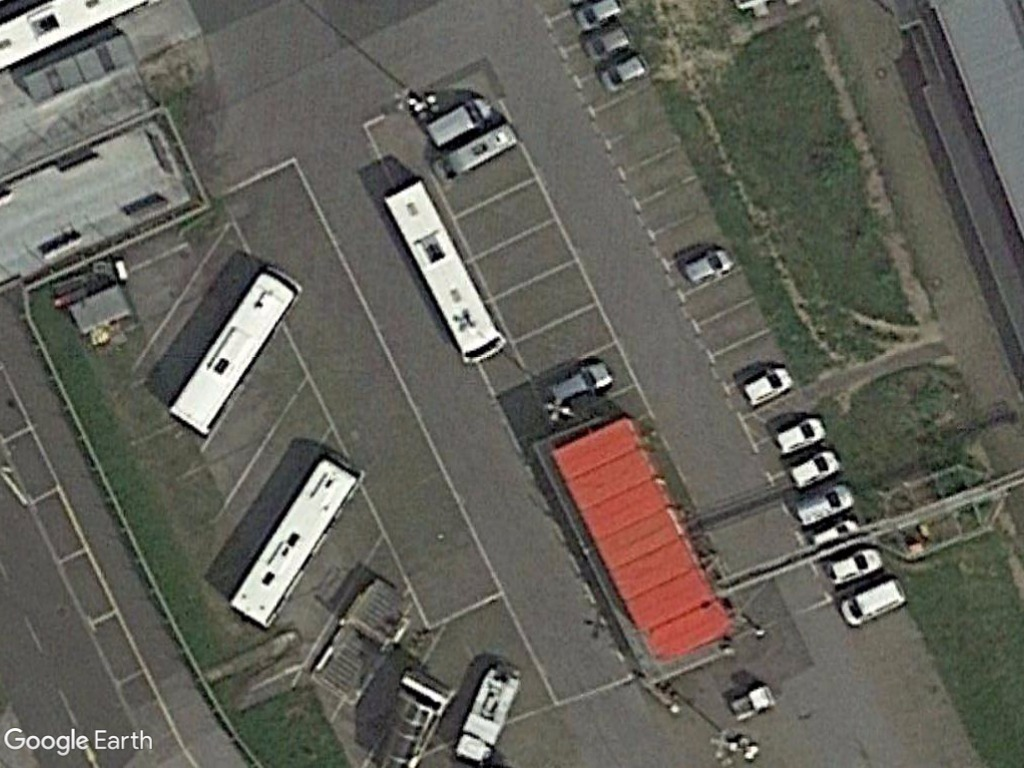bus: (225, 445, 363, 636), (162, 259, 303, 445), (382, 173, 510, 367)
car: (834, 576, 909, 631), (790, 482, 856, 528), (822, 544, 888, 588), (739, 361, 794, 408), (785, 448, 842, 493), (770, 413, 828, 457), (598, 48, 648, 98), (679, 244, 735, 288), (580, 23, 632, 66)
van: (417, 91, 499, 154)
